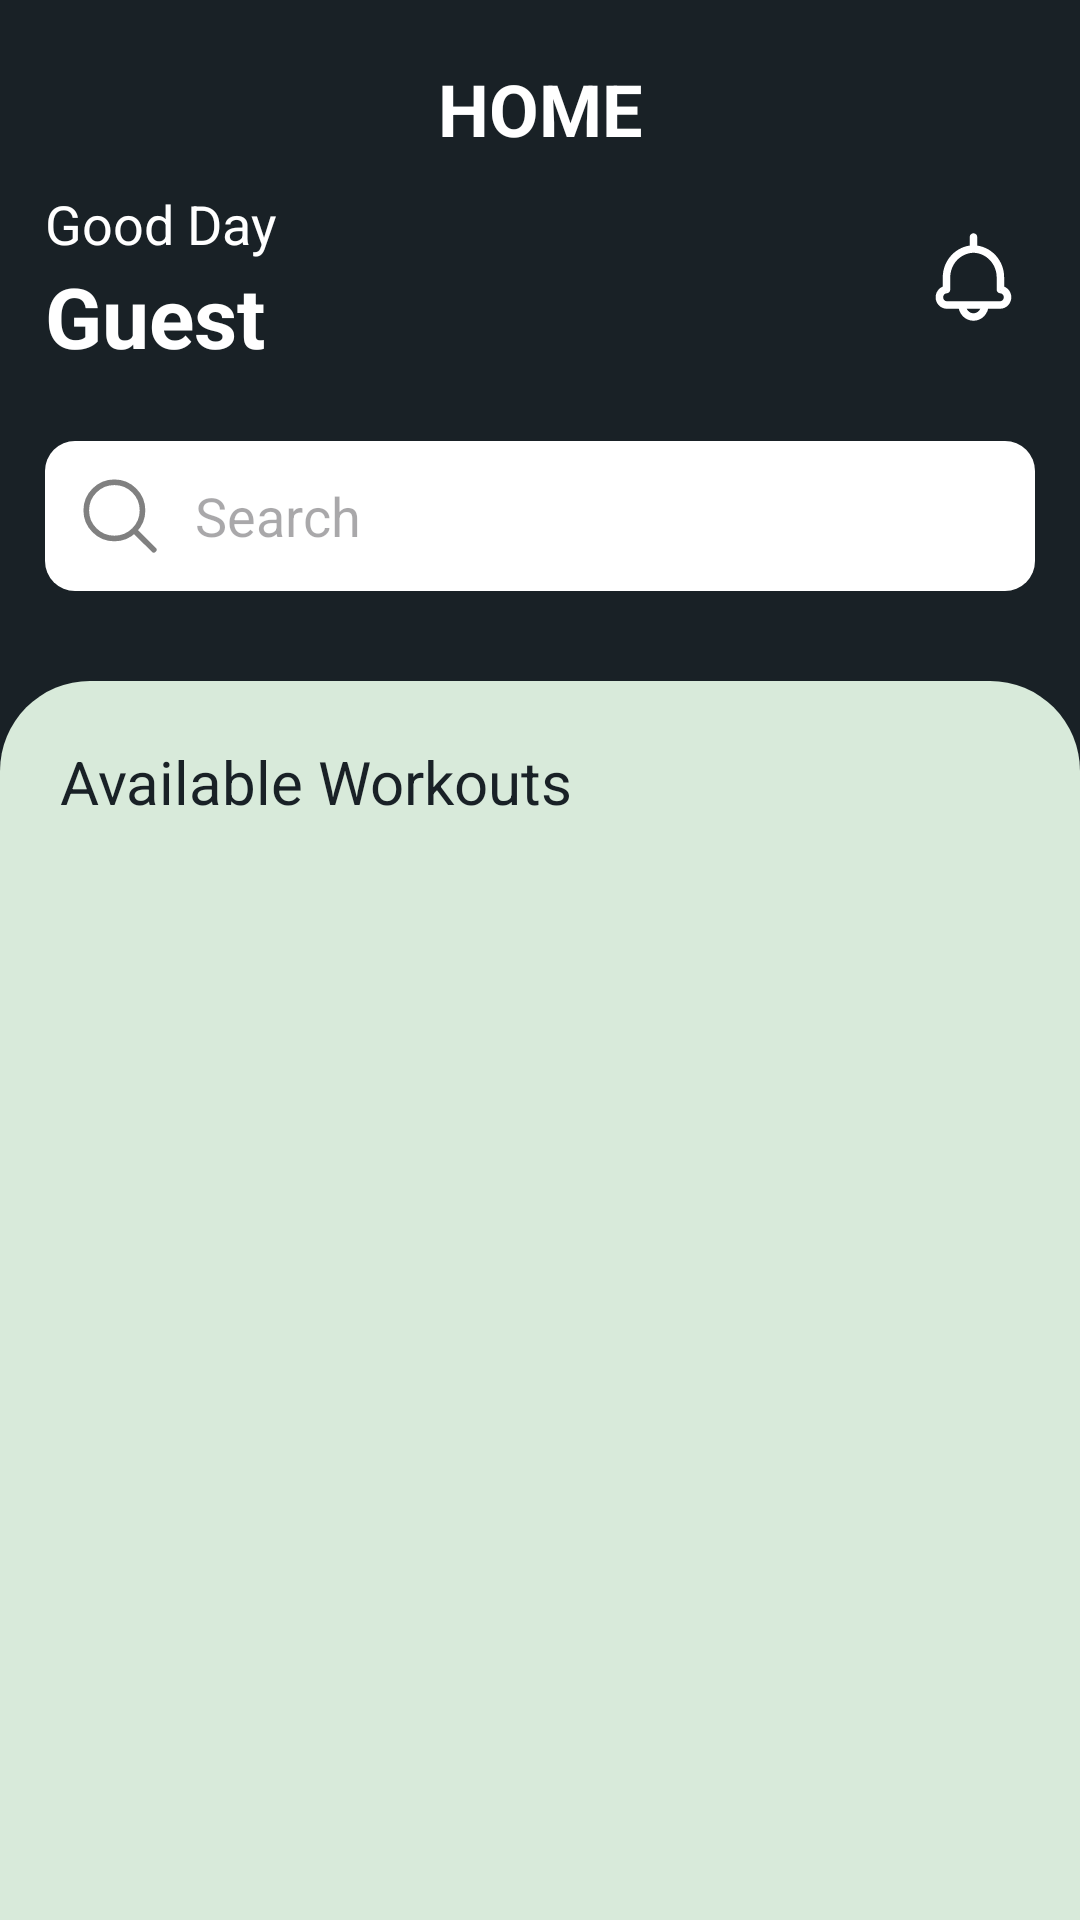

Where icons sit on this 1080px×1920px app screen, as (x1, y1, x2, y2):
notification: (935, 233, 1012, 321)
